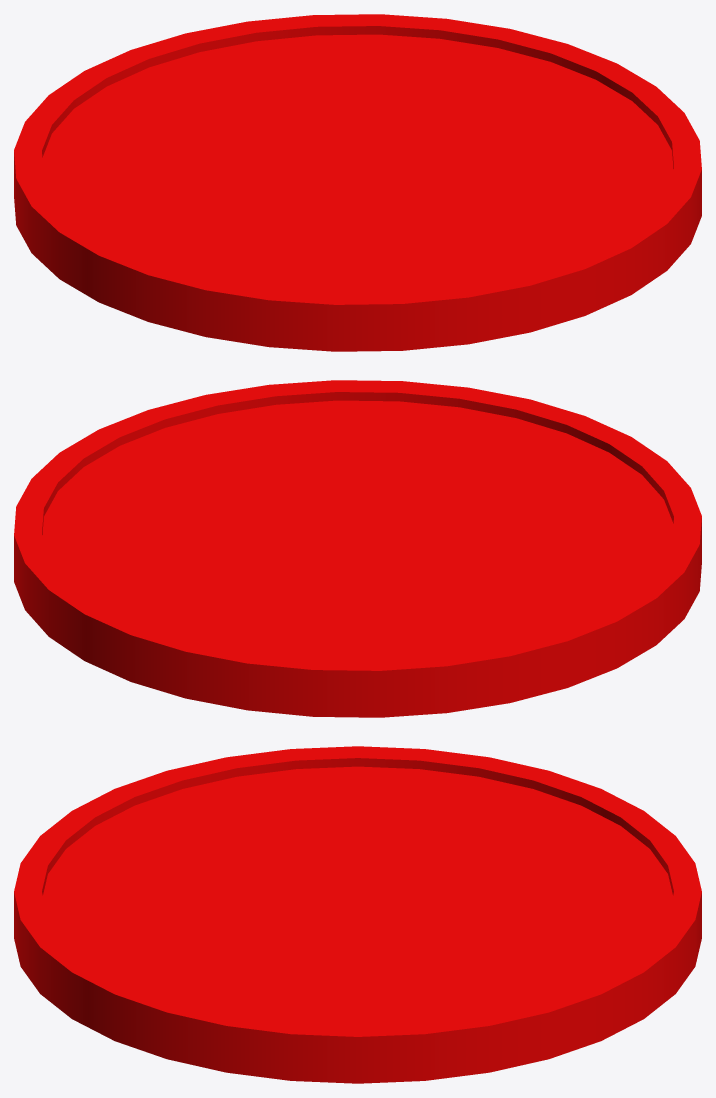
Rendered from CatCoin_Low.FBX.
The picture shows the model from 3 angles, top to bottom: view 1: azimuth 30°, elevation 25°; view 2: azimuth 150°, elevation 25°; view 3: azimuth 270°, elevation 25°; orthographic projection.
Visible parts, largest first — view 1: CatCoin_Low; view 2: CatCoin_Low; view 3: CatCoin_Low.
Boxes of the visible parts, x1,y1,x2,y2 form: CatCoin_Low: (14, 14, 701, 351); CatCoin_Low: (14, 380, 701, 717); CatCoin_Low: (14, 746, 701, 1083).
Size of the model in its own units: 27.08 by 2.03 by 27.08.
